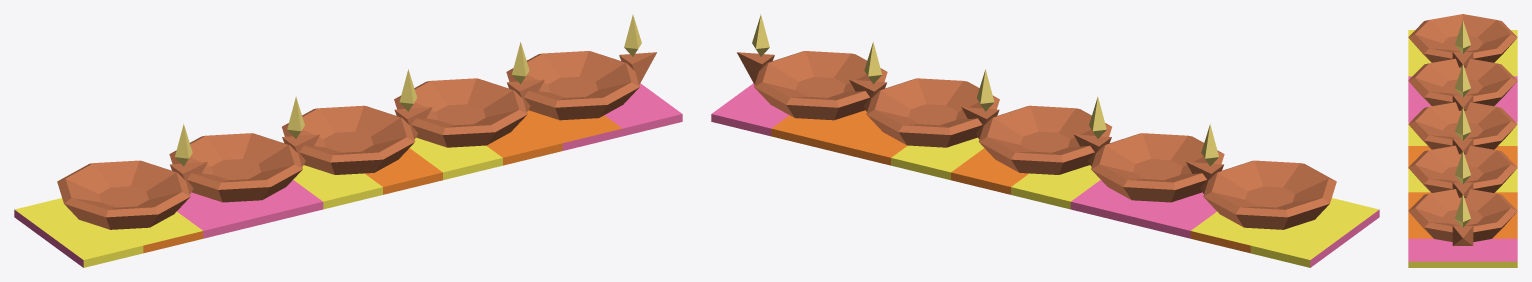
The model's file is DiyaRow.fbx.
The picture shows the model from 3 angles, left to right: view 1: azimuth 30°, elevation 25°; view 2: azimuth 150°, elevation 25°; view 3: azimuth 270°, elevation 25°; orthographic projection. The views are drawn at different scales.
Parts seen in each view (by area): view 1: DiyaRow; view 2: DiyaRow; view 3: DiyaRow.
Part boxes in pixels (<box>): DiyaRow: <box>14,14,682,267</box>; DiyaRow: <box>711,14,1379,267</box>; DiyaRow: <box>1408,14,1517,267</box>.
Size of the model in its own units: 8.13 by 1.1 by 1.6.
1 material, 1 textured.
